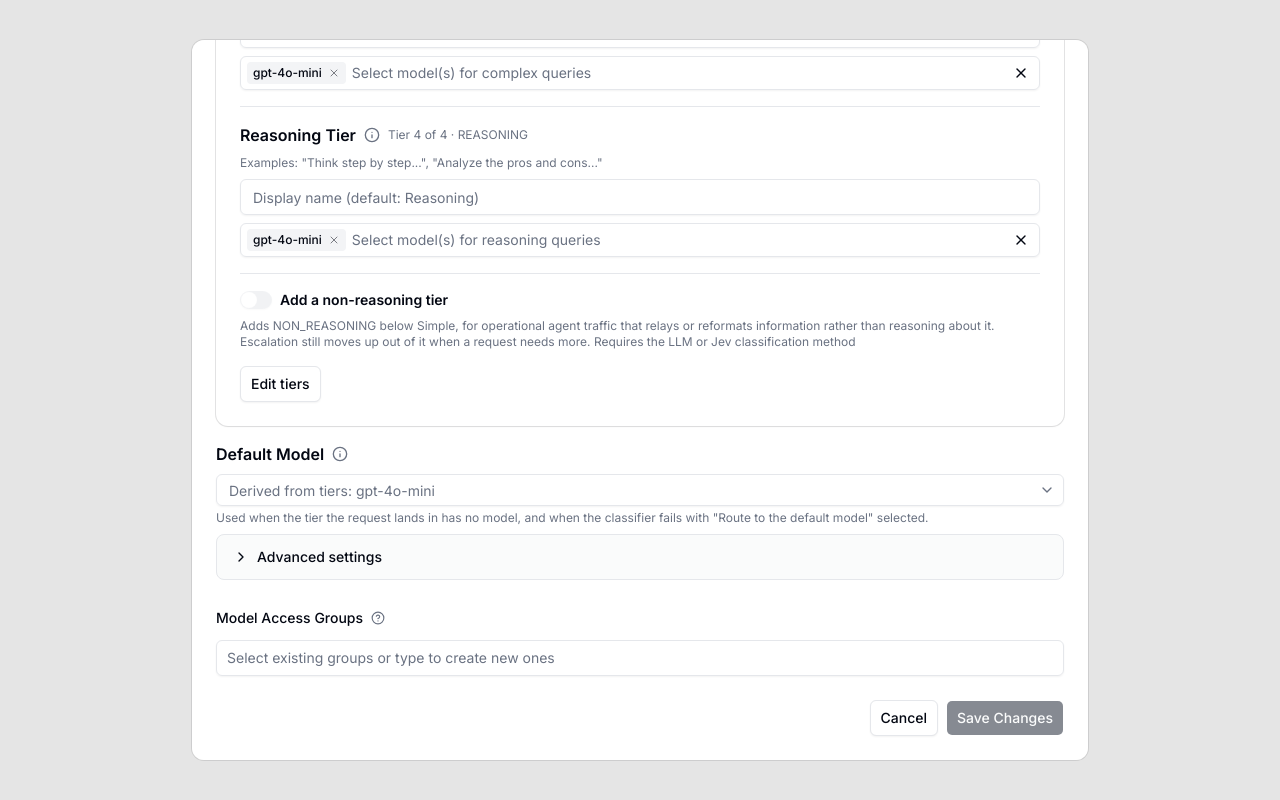
Test: EditAutoRouterModal keyword matching › renders the advanced sections the create form offers
The width and height of the screenshot is (1280, 800).
(page scrolled)
Click the button "Advanced settings".
click(320, 557)  # box [217,535,1063,579]
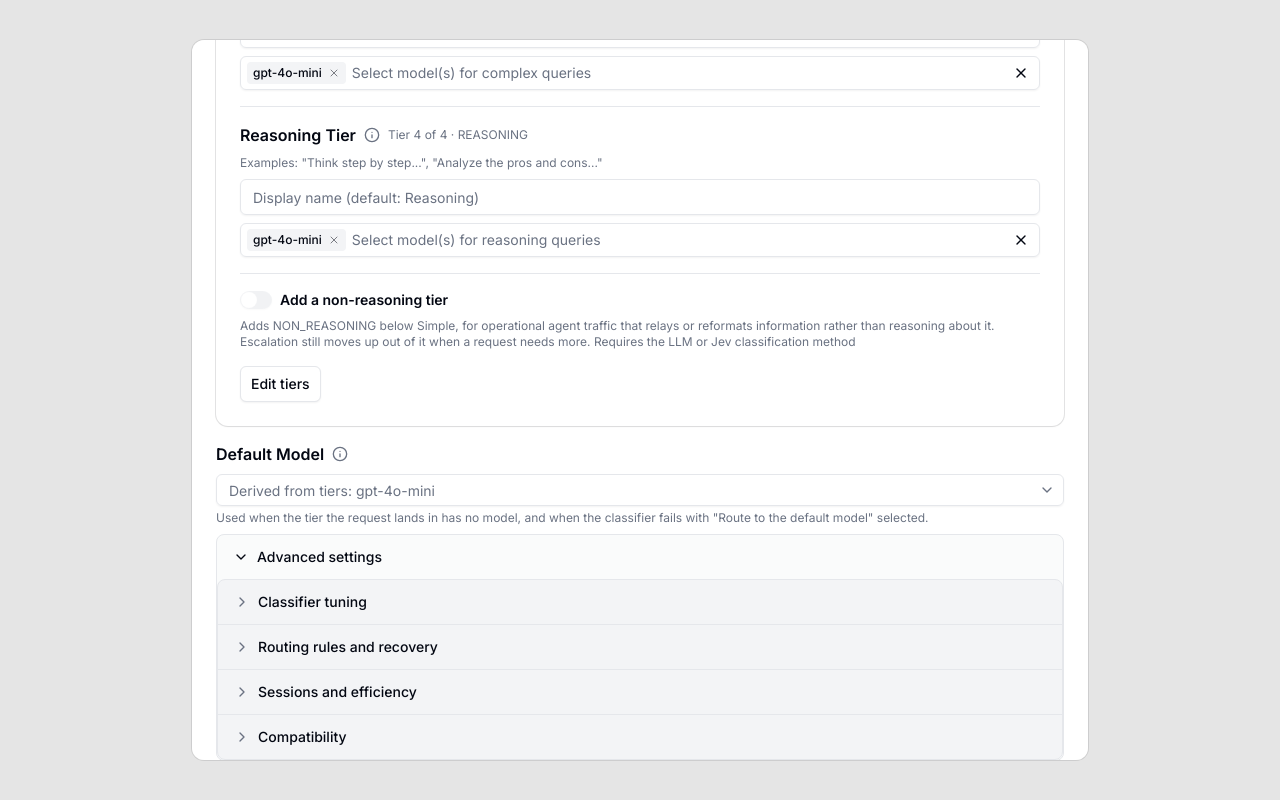
Click the button "Routing rules and recovery".
click(348, 647)  # box [218,625,1062,669]
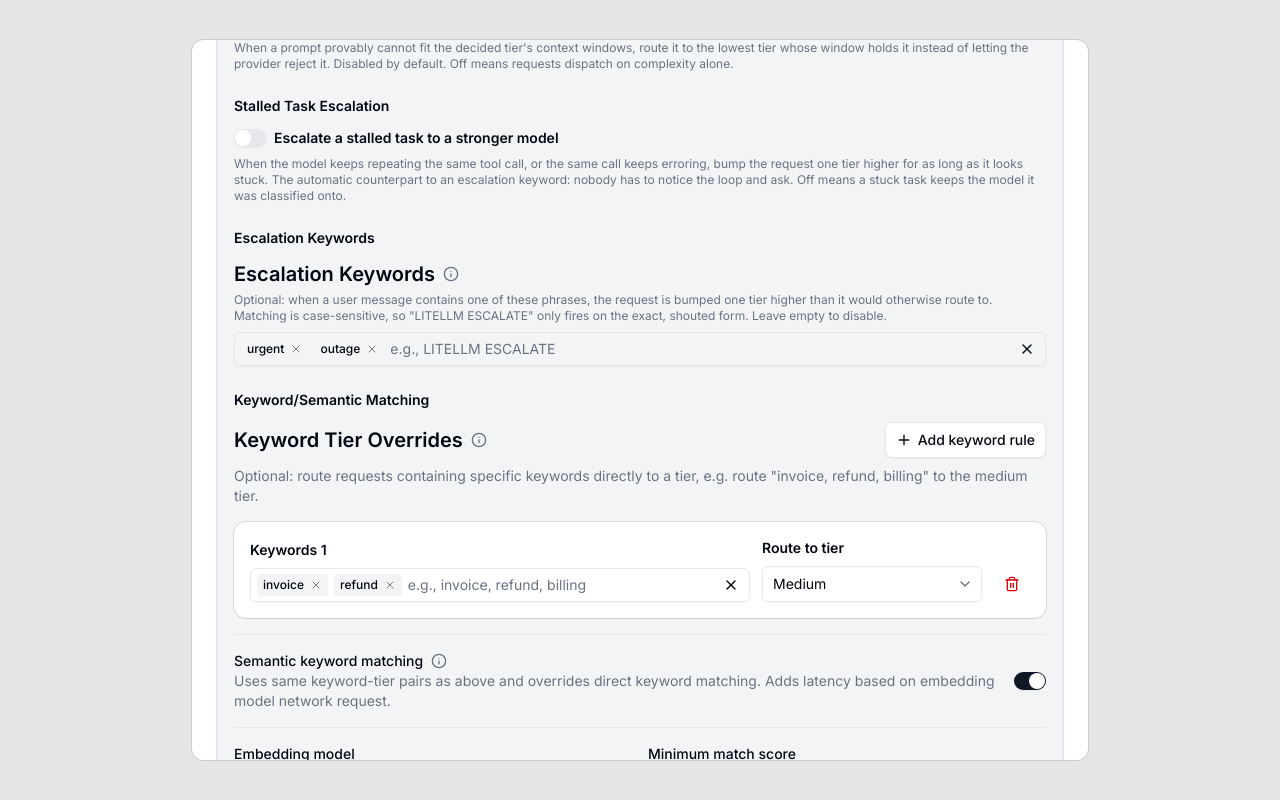
Expected: the text "Keyword/Semantic Matching" is shown, [234,391,429,408]
